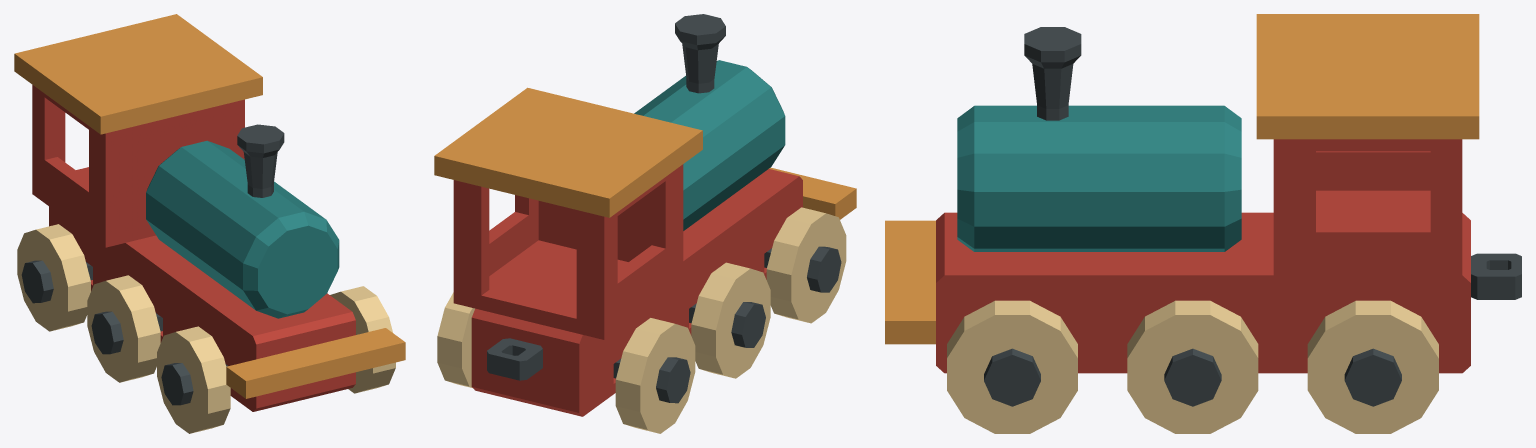
The picture shows the model from 3 angles, left to right: view 1: azimuth 30°, elevation 25°; view 2: azimuth 150°, elevation 25°; view 3: azimuth 270°, elevation 25°; orthographic projection. The views are drawn at different scales.
Visible parts, largest first — view 1: Cab_IntegralFloorPostsRoof, Boiler_ClosedBluntHorizontalBody, Chassis_NewThreeAxleBores, Buffer_FrontLowCrossbar, Wheel_Rear_Left, Wheel_Front_Left, Wheel_Middle_Left, Wheel_Front_Right, Chimney_ShortFlaredClosedTop, Axle_Middle_IntegralShouldersAndCaps, Axle_Rear_IntegralShouldersAndCaps, Axle_Front_IntegralShouldersAndCaps; view 2: Cab_IntegralFloorPostsRoof, Chassis_NewThreeAxleBores, Boiler_ClosedBluntHorizontalBody, Wheel_Rear_Left, Wheel_Front_Left, Wheel_Middle_Left, Chimney_ShortFlaredClosedTop, Wheel_Rear_Right, Coupling_RearBoredEar, Buffer_FrontLowCrossbar, Axle_Rear_IntegralShouldersAndCaps, Axle_Front_IntegralShouldersAndCaps (+1 smaller); view 3: Cab_IntegralFloorPostsRoof, Boiler_ClosedBluntHorizontalBody, Chassis_NewThreeAxleBores, Wheel_Middle_Right, Wheel_Rear_Right, Wheel_Front_Right, Buffer_FrontLowCrossbar, Chimney_ShortFlaredClosedTop, Axle_Middle_IntegralShouldersAndCaps, Axle_Rear_IntegralShouldersAndCaps, Axle_Front_IntegralShouldersAndCaps, Coupling_RearBoredEar.
Boxes of the visible parts, x1,y1,x2,y2 form: Cab_IntegralFloorPostsRoof: (14, 14, 262, 247); Boiler_ClosedBluntHorizontalBody: (146, 140, 339, 318); Chassis_NewThreeAxleBores: (49, 206, 355, 411); Buffer_FrontLowCrossbar: (226, 328, 405, 398); Wheel_Rear_Left: (17, 224, 90, 331); Wheel_Front_Left: (157, 326, 230, 433); Wheel_Middle_Left: (87, 275, 160, 382); Wheel_Front_Right: (330, 286, 395, 393); Chimney_ShortFlaredClosedTop: (237, 124, 284, 197); Axle_Middle_IntegralShouldersAndCaps: (91, 311, 162, 354); Axle_Rear_IntegralShouldersAndCaps: (21, 260, 92, 303); Axle_Front_IntegralShouldersAndCaps: (161, 363, 228, 405); Cab_IntegralFloorPostsRoof: (434, 87, 702, 339); Chassis_NewThreeAxleBores: (471, 169, 802, 416); Boiler_ClosedBluntHorizontalBody: (634, 60, 785, 230); Wheel_Rear_Left: (615, 318, 695, 433); Wheel_Front_Left: (766, 207, 846, 323); Wheel_Middle_Left: (691, 262, 770, 378); Chimney_ShortFlaredClosedTop: (675, 14, 725, 93); Wheel_Rear_Right: (437, 292, 474, 387); Coupling_RearBoredEar: (487, 338, 542, 380); Buffer_FrontLowCrossbar: (769, 167, 856, 219); Axle_Rear_IntegralShouldersAndCaps: (613, 357, 690, 403); Axle_Front_IntegralShouldersAndCaps: (764, 246, 841, 292); Cab_IntegralFloorPostsRoof: (1256, 14, 1479, 287); Boiler_ClosedBluntHorizontalBody: (957, 105, 1241, 251); Chassis_NewThreeAxleBores: (936, 212, 1470, 373); Wheel_Middle_Right: (1127, 300, 1258, 433); Wheel_Rear_Right: (1307, 300, 1438, 433); Wheel_Front_Right: (947, 300, 1077, 433); Buffer_FrontLowCrossbar: (885, 220, 935, 344); Chimney_ShortFlaredClosedTop: (1024, 27, 1081, 120); Axle_Middle_IntegralShouldersAndCaps: (1164, 348, 1221, 406); Axle_Rear_IntegralShouldersAndCaps: (1344, 348, 1401, 406); Axle_Front_IntegralShouldersAndCaps: (984, 348, 1040, 406); Coupling_RearBoredEar: (1471, 253, 1521, 299).
Size of the model in its own units: 0.292 by 0.3492 by 0.6.
